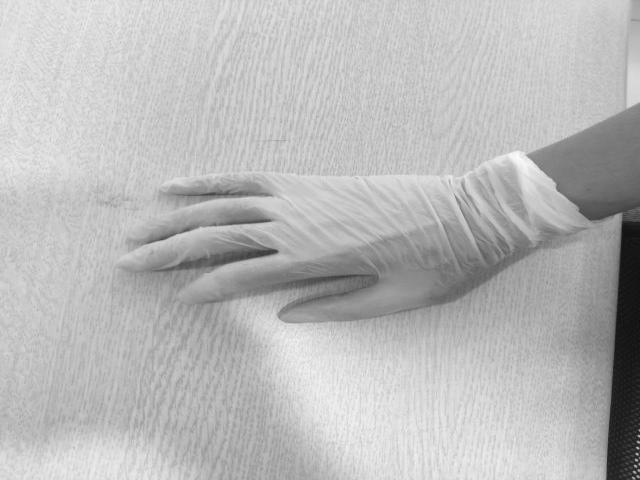gloved: (114, 169, 484, 324)
